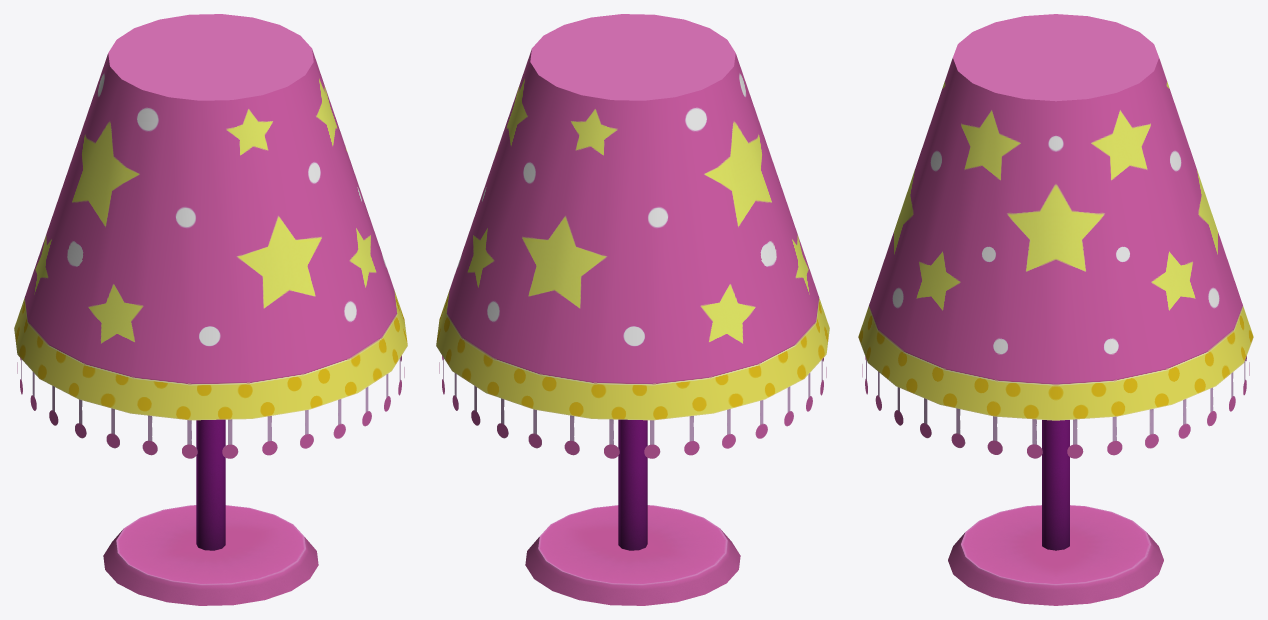
File: NightLamp.fbx
The picture shows the model from 3 angles, left to right: view 1: azimuth 30°, elevation 25°; view 2: azimuth 150°, elevation 25°; view 3: azimuth 270°, elevation 25°; orthographic projection.
Visible parts, largest first — view 1: 081; view 2: 081; view 3: 081.
Part boxes in pixels (bbox=[...]): 081: bbox=[14, 14, 407, 605]; 081: bbox=[436, 14, 829, 605]; 081: bbox=[858, 14, 1253, 605].
Bounding box in the file's own units: 37.61 × 52.73 × 37.61.
1 material, 1 textured.
